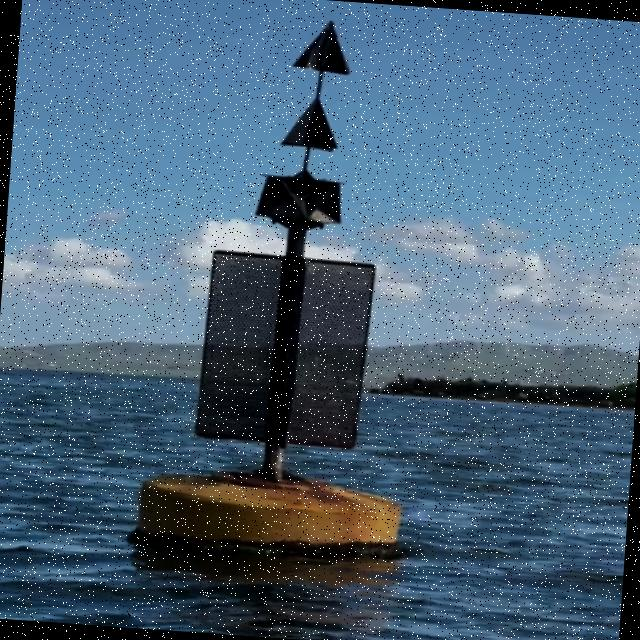marque: (132, 16, 441, 566)
